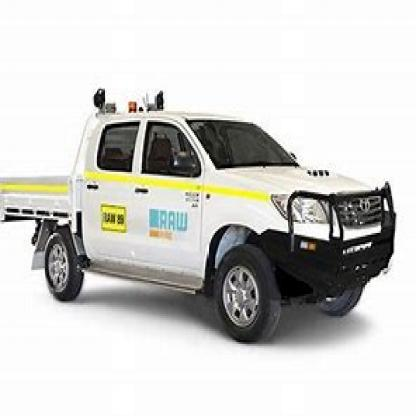light_vehicle: (6, 96, 408, 350)
